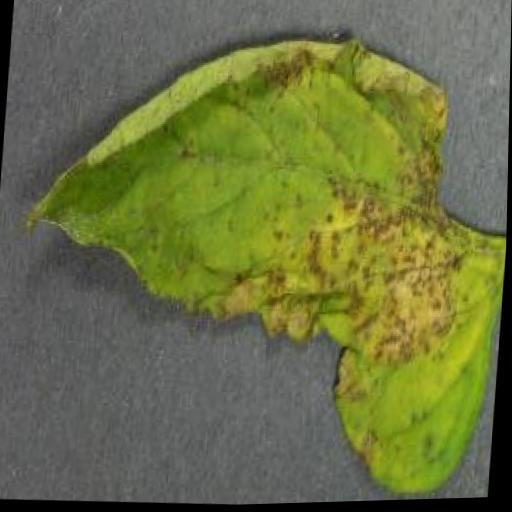Bacterial Spot: (3, 16, 512, 512)
